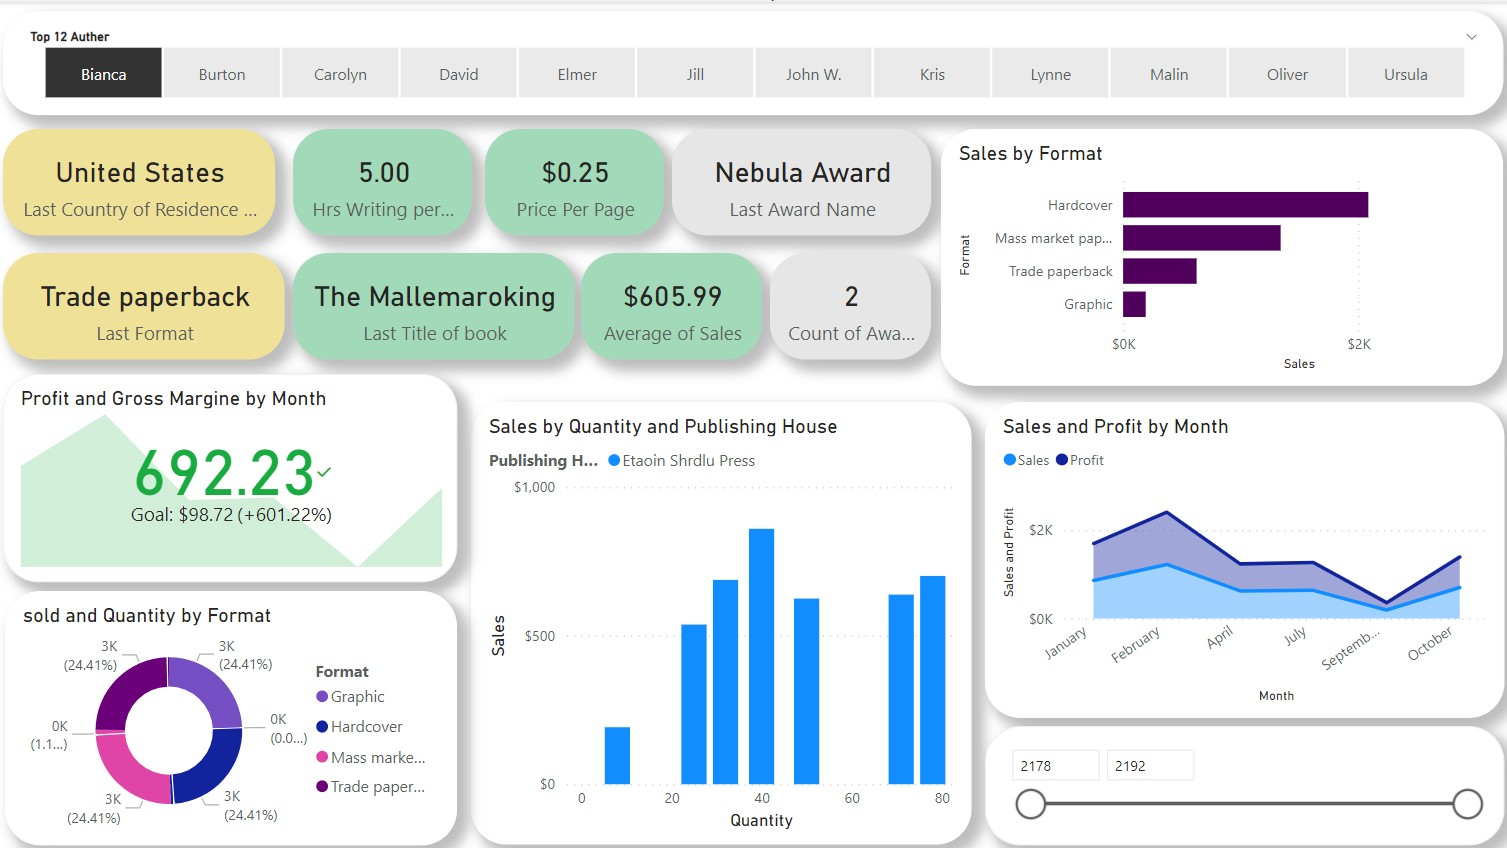

The dashboard page shown, as its layout file describes it:
{"tool":"powerbi","page":{"name":"Page 5","canvas":[1280,720],"ordinal":2},"visuals":[{"type":"slicer","fields":{"Values":["Author.Auth Name"]},"box":[5.8,7.7,1268.5,88.3],"z":0},{"type":"card","fields":{"Values":["Author.Country of Residence of Auth"]},"box":[5.8,107.5,230.5,90.3],"z":1000},{"type":"card","fields":{"Values":["Author.Hrs Writing per Day"]},"box":[251,107.7,150.8,90.5],"z":2000},{"type":"card","fields":{"Values":["edition.Price Per Page"]},"box":[412.9,107.5,150.8,90.3],"z":3000},{"type":"card","fields":{"Values":["Awards.Award Name"]},"box":[571.3,107.5,218.9,90.3],"z":4000},{"type":"card","fields":{"Values":["edition.Format"]},"box":[5.8,212.2,238.1,90.3],"z":5000},{"type":"card","fields":{"Values":["BooksShop.Title"]},"box":[251,211.8,238.3,90.5],"z":6000},{"type":"card","fields":{"Values":["edition.Sales"]},"box":[494.5,212.2,152.7,90.3],"z":7000},{"type":"card","fields":{"Values":["Awards.Award Name"]},"box":[653.9,212.2,136.4,90.3],"z":8000},{"type":"barChart","fields":{"Category":["edition.Format"],"Y":["edition.Sales"]},"box":[798.9,107.5,475.3,217],"z":9000},{"type":"clusteredColumnChart","fields":{"Y":["edition.Sales"],"Series":["publisher.Publishing House"],"Category":["edition.Quantity"]},"box":[401.4,338,422.5,374.5],"z":10000},{"type":"stackedAreaChart","fields":{"Category":["edition.Publication Date.Variation.Date Hierarchy.Month"],"Y":["edition.Sales","edition.Profit"]},"box":[835.4,338,438.8,266.9],"z":11000},{"type":"slicer","fields":{"Values":["edition.Publication Date.Variation.Date Hierarchy.Year"]},"box":[835.4,611.7,438.8,100.8],"z":12000},{"type":"kpi","fields":{"TrendLine":["edition.Publication Date.Variation.Date Hierarchy.Month"],"Goal":["edition.Gross Margine"],"Indicator":["edition.Profit"]},"box":[5.8,314,384.1,175.7],"z":13000},{"type":"donutChart","fields":{"Y":["checkouts.Number of Checkouts","edition.Quantity"],"Category":["edition.Format"]},"box":[7.7,497.4,382.2,215.1],"z":14000}]}

Visuals, with their boxes in screenshot pixels (x1, y1, x2, y2), scaled from the page's 1280x720 canvas onto the 1507x848 screenshot:
slicer - Author.Auth Name: 7:9:1500:113
card - Author.Country of Residence of Auth: 7:127:278:233
card - Author.Hrs Writing per Day: 296:127:473:233
card - edition.Price Per Page: 486:127:664:233
card - Awards.Award Name: 673:127:930:233
card - edition.Format: 7:250:287:356
card - BooksShop.Title: 296:249:576:356
card - edition.Sales: 582:250:762:356
card - Awards.Award Name: 770:250:930:356
barChart - edition.Format x edition.Sales: 941:127:1500:382
clusteredColumnChart - edition.Sales x publisher.Publishing House: 473:398:970:839
stackedAreaChart - edition.Publication Date.Variation.Date Hierarchy.Month x edition.Sales: 984:398:1500:712
slicer - edition.Publication Date.Variation.Date Hierarchy.Year: 984:720:1500:839
kpi - edition.Publication Date.Variation.Date Hierarchy.Month x edition.Gross Margine: 7:370:459:577
donutChart - checkouts.Number of Checkouts x edition.Quantity: 9:586:459:839
